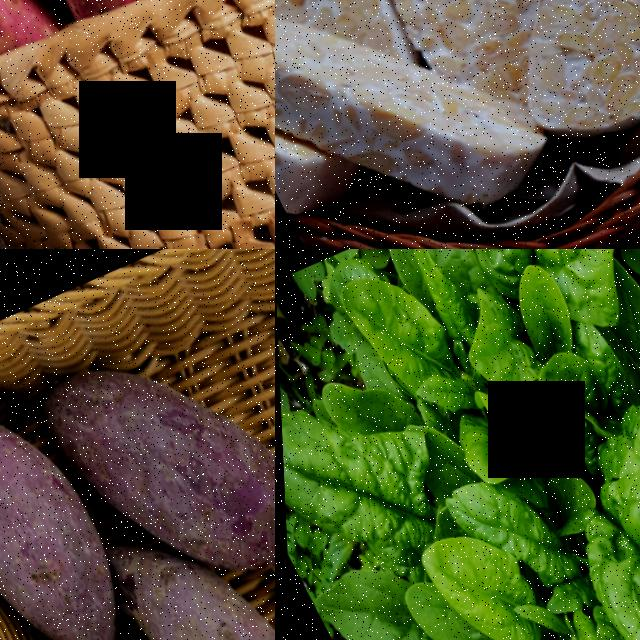spinach: (277, 362, 462, 612), (329, 249, 471, 415), (535, 425, 640, 640), (408, 505, 561, 640), (502, 249, 640, 339), (440, 452, 551, 558)
sweet potato: (21, 312, 254, 550), (0, 389, 163, 640), (147, 379, 275, 604)
tempeh: (275, 0, 544, 249), (413, 0, 640, 150), (319, 0, 582, 87)
